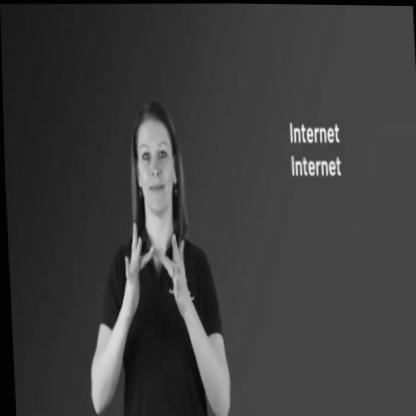Internet: (120, 221, 192, 322)
